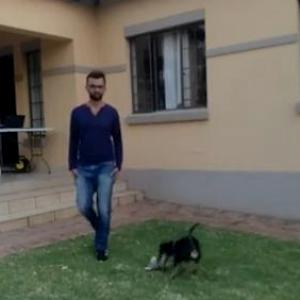follow: (65, 70, 125, 259)
